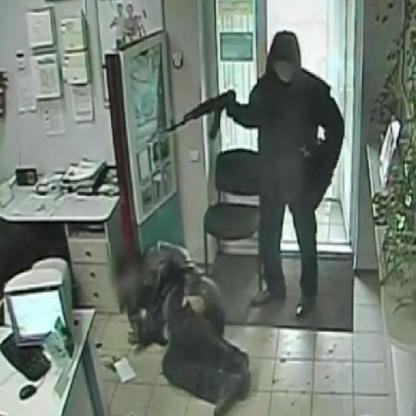al: (148, 82, 242, 148)
